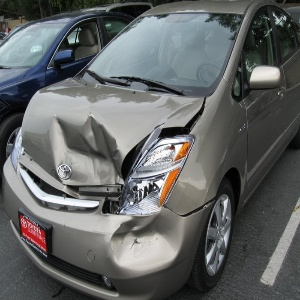bonnet: (18, 76, 132, 179)
bumper: (87, 213, 188, 275)
